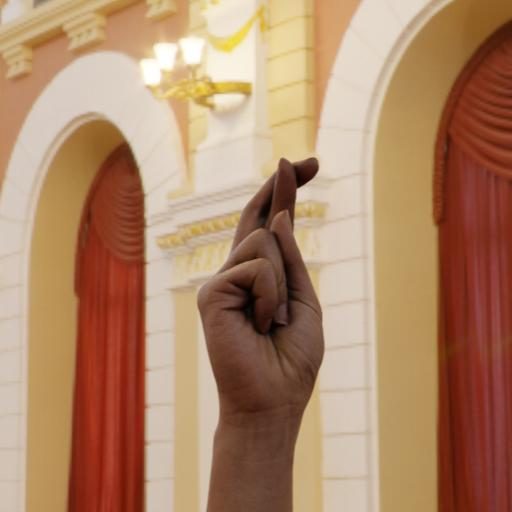R: (192, 151, 336, 424)
